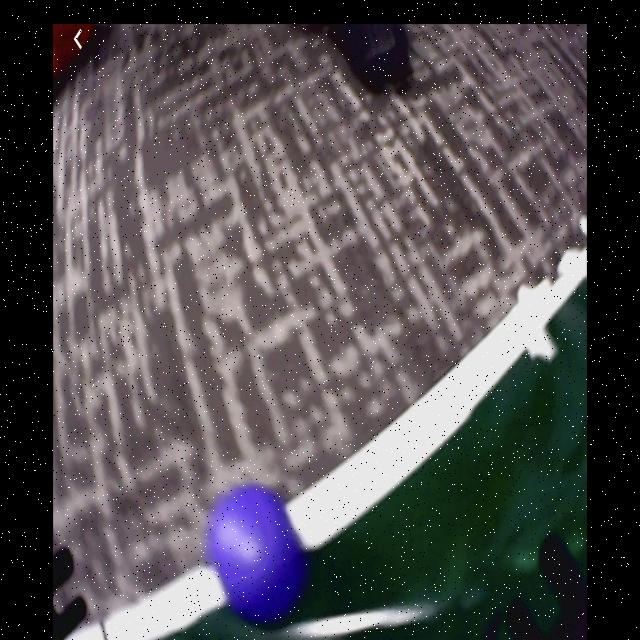ball: (211, 477, 296, 610)
